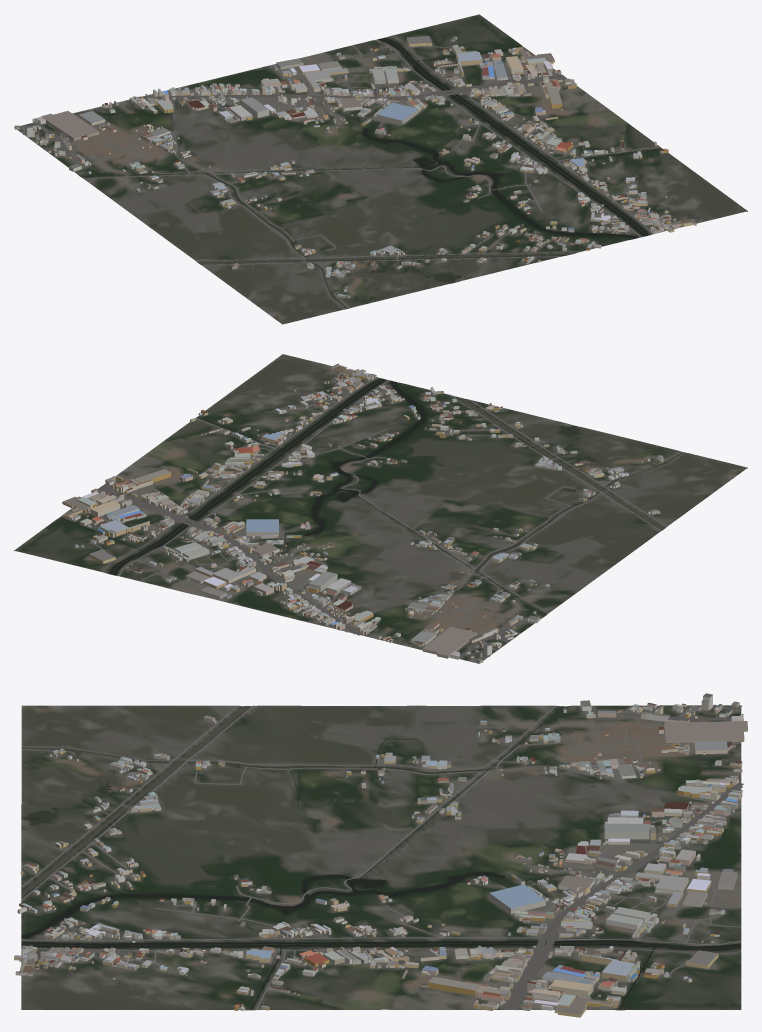
3 renders of one model, top to bottom at view 1: azimuth 30°, elevation 25°; view 2: azimuth 150°, elevation 25°; view 3: azimuth 270°, elevation 25°, orthographic. The views are drawn at different scales.
Visible parts, largest first — view 1: ground, buildings, roads, water; view 2: ground, buildings, roads, water; view 3: ground, buildings, roads, water.
Boxes of the visible parts, x1,y1,x2,y2 form: ground: (14, 14, 747, 324); buildings: (14, 36, 696, 297); roads: (20, 36, 662, 309); water: (81, 37, 661, 308); ground: (14, 354, 747, 663); buildings: (62, 363, 663, 663); roads: (89, 377, 685, 663); water: (59, 378, 683, 615); ground: (21, 705, 741, 1010); buildings: (14, 693, 747, 1017); roads: (21, 704, 743, 1010); water: (21, 706, 740, 1009).
Size of the model in its own units: 1440 by 31.37 by 1428.
